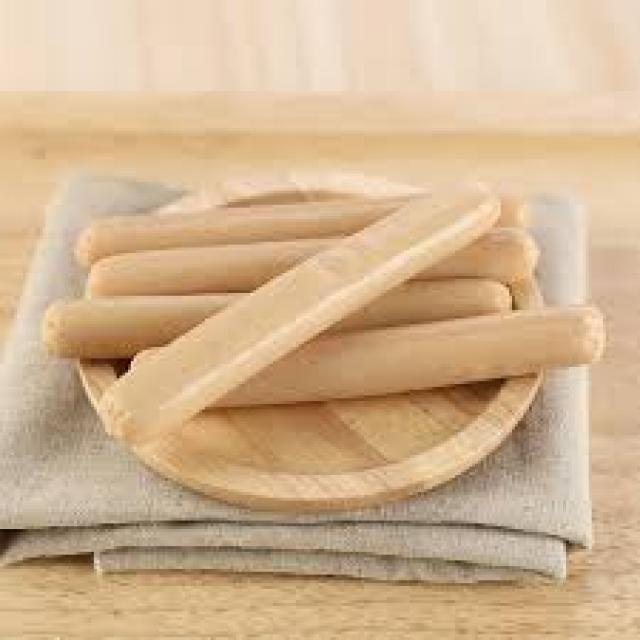sausage: (51, 208, 620, 450)
